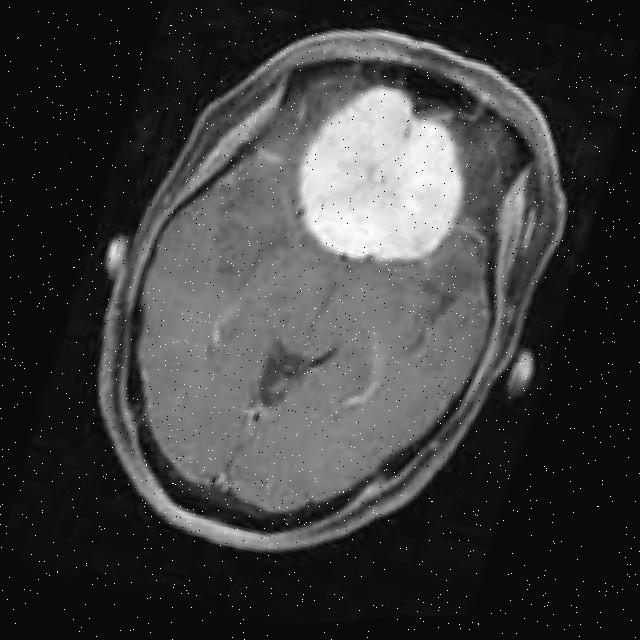Meningioma: (272, 61, 496, 286)
